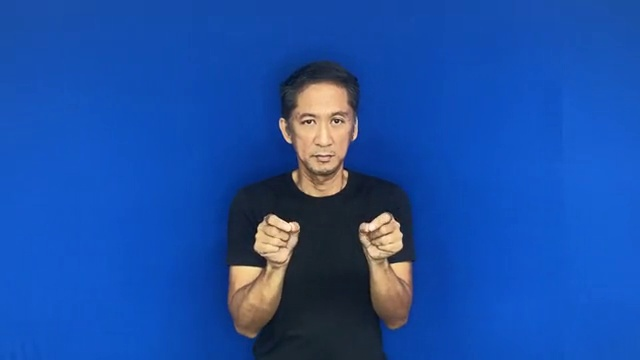crab: (250, 206, 407, 271)
